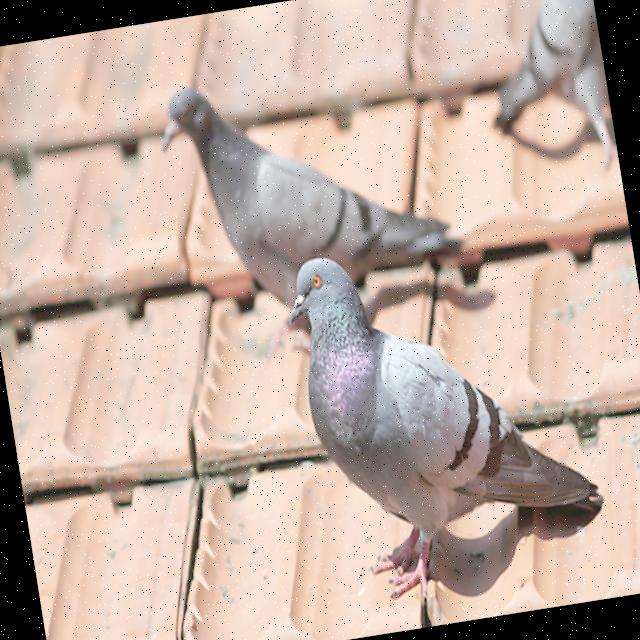bird: (274, 218, 614, 623), (152, 48, 466, 324)
